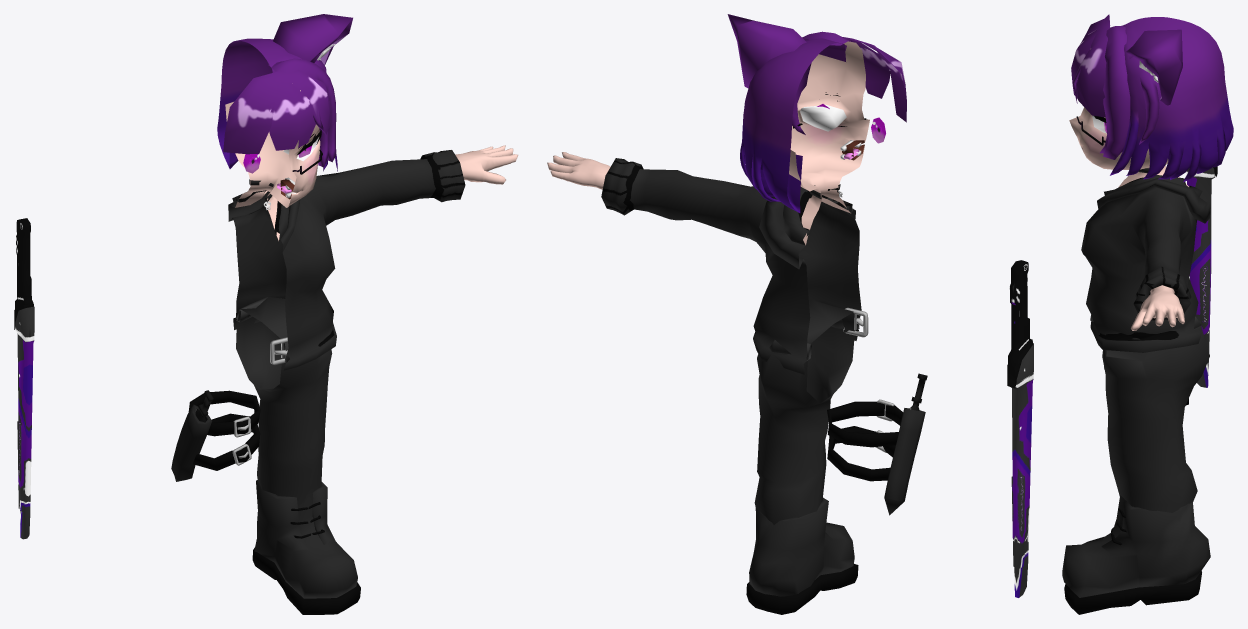
Rendered from โมเดลโอริ จิบิ rig.glb.
3 views of the same model, side by side, from view 1: azimuth 30°, elevation 25°; view 2: azimuth 150°, elevation 25°; view 3: azimuth 270°, elevation 25° (orthographic). The views are drawn at different scales.
Parts seen in each view (by area): view 1: ตัว, ตัว.002, ตัว.001, ดาบหลอก, ผมหน้่า2, ผมหลัง, เข้มขัดมีด, หู, ผมหน้า1, ปอกมีด, ผมข้าง; view 2: ตัว, ตัว.002, ตัว.001, ผมหลัง, ดาบหลอก, เข้มขัดมีด, หู, ปอกมีด, ผมหน้า1, ผมหน้่า2, ผมข้าง; view 3: ตัว, ตัว.002, ผมหลัง, ตัว.001, ผมข้าง, ดาบหลอก, หู, ผมหน้่า2, ผมหน้า1.
Part boxes in pixels (<box>): ตัว: <box>225,90,518,370</box>; ตัว.002: <box>236,297,332,505</box>; ตัว.001: <box>252,480,360,614</box>; ดาบหลอก: <box>14,218,34,539</box>; ผมหน้่า2: <box>223,69,331,154</box>; ผมหลัง: <box>217,38,337,171</box>; เข้มขัดมีด: <box>188,390,260,470</box>; หู: <box>273,14,352,65</box>; ผมหน้า1: <box>269,79,315,150</box>; ปอกมีด: <box>171,404,211,481</box>; ผมข้าง: <box>268,58,336,167</box>; ตัว: <box>547,41,869,374</box>; ตัว.002: <box>754,299,854,524</box>; ตัว.001: <box>746,497,858,614</box>; ผมหลัง: <box>740,38,845,212</box>; ดาบหลอก: <box>1007,260,1033,597</box>; เข้มขัดมีด: <box>827,399,903,481</box>; หู: <box>727,14,806,88</box>; ปอกมีด: <box>884,408,925,515</box>; ผมหน้า1: <box>849,39,890,98</box>; ผมหน้่า2: <box>842,37,906,122</box>; ผมข้าง: <box>792,31,850,134</box>; ตัว: <box>1069,48,1210,352</box>; ตัว.002: <box>1102,326,1209,512</box>; ผมหลัง: <box>1110,17,1233,182</box>; ตัว.001: <box>1062,495,1210,614</box>; ผมข้าง: <box>1100,25,1130,159</box>; ดาบหลอก: <box>1186,166,1217,387</box>; หู: <box>1126,29,1182,105</box>; ผมหน้่า2: <box>1072,14,1110,117</box>; ผมหน้า1: <box>1071,29,1099,98</box>.
Size of the model in its own units: 4.28 by 4.78 by 1.29.
7 materials, 7 textured.
